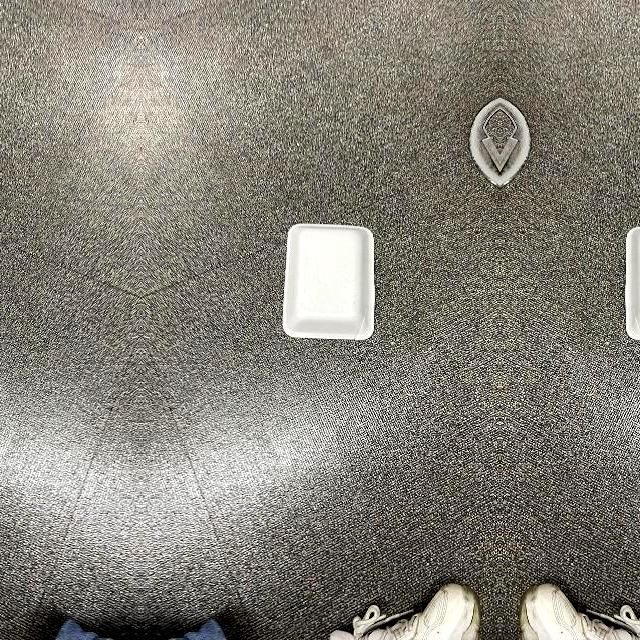Styrofoam: (281, 222, 375, 342), (281, 224, 373, 340)
